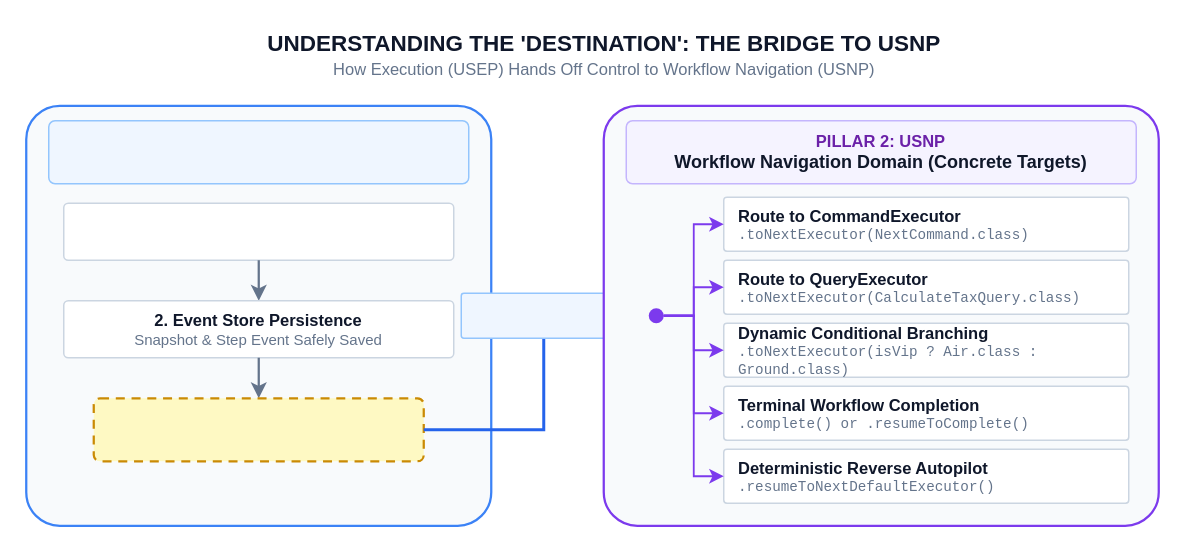
Some shapes in this 1187 by 552 pixel diagram are drawn without their labels. Each missing label, with the box of its shape:
1. Atomic Step Execution Call DB, REST API, or Kafka Topic: (62, 202, 454, 260)
[ Destination ] Abstract Handoff Threshold: (92, 396, 424, 462)
Handoff Control USNP Resolves Target: (460, 292, 634, 338)
PILLAR 1: USEP Step Execution Domain: (47, 119, 469, 184)
